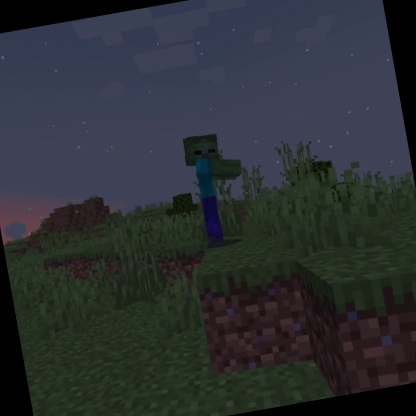zombie: (176, 126, 260, 254)
